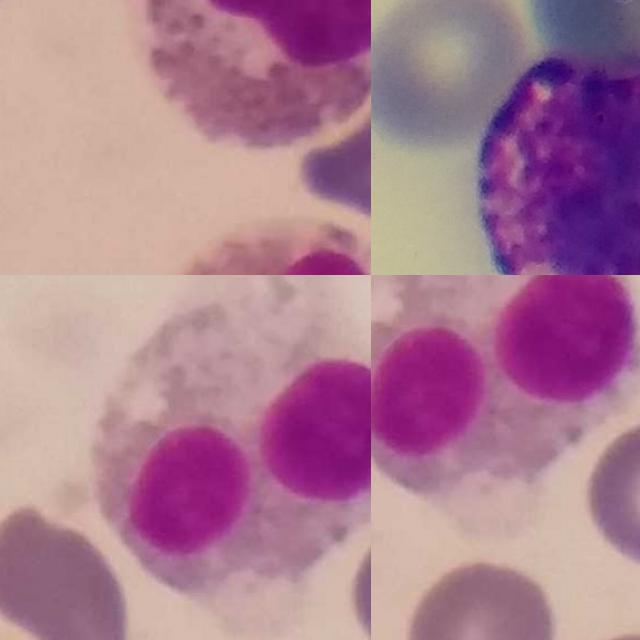Basophil: (474, 51, 640, 275)
Eosinophil: (86, 275, 371, 591), (371, 275, 640, 492), (135, 0, 371, 155)
